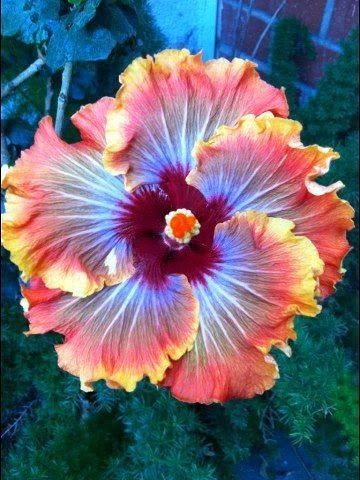Hibiscus: (1, 47, 352, 401)
